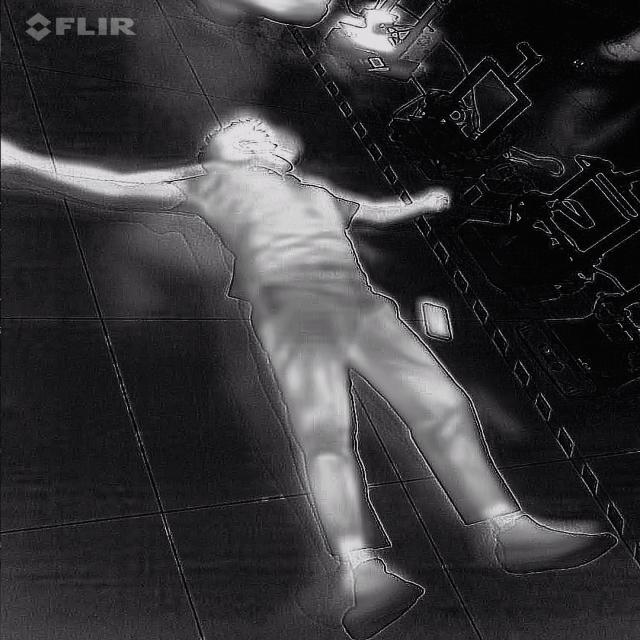Victim: (0, 113, 631, 636)
